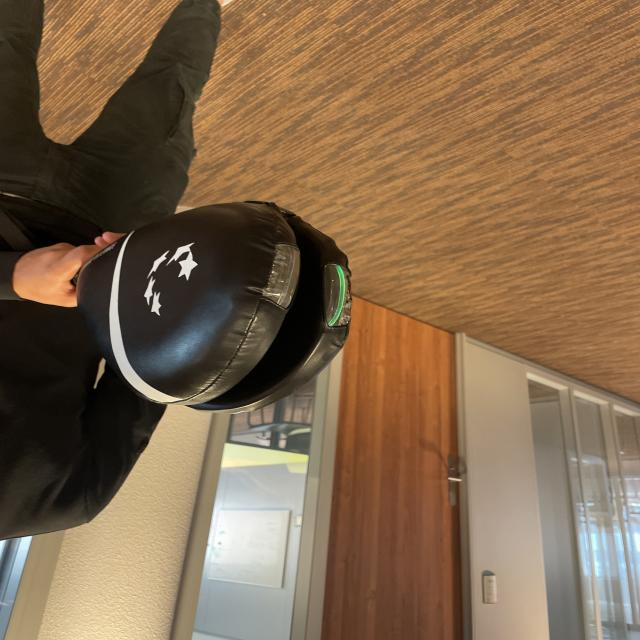paddle: (87, 203, 349, 414)
trigger: (325, 261, 352, 332)
